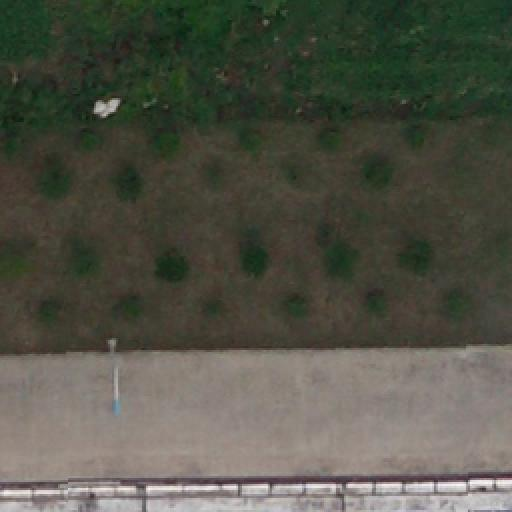solar-panel: (304, 508, 512, 512)
